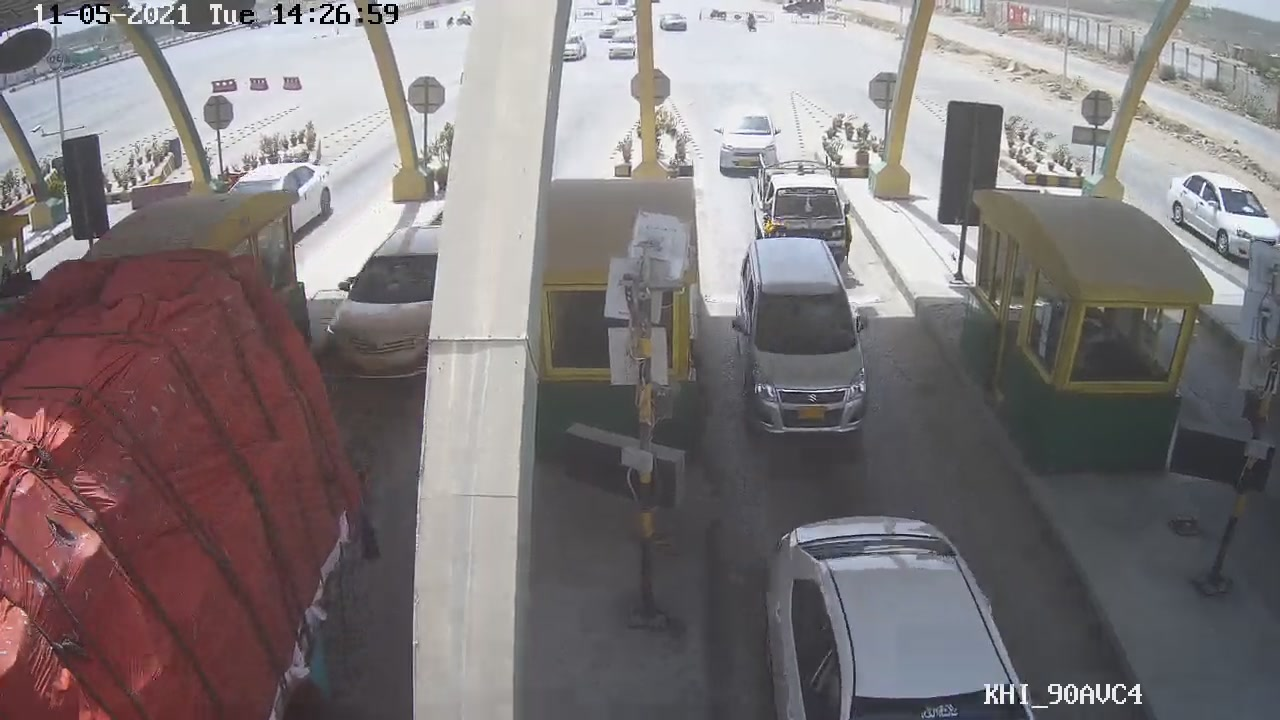F1: (725, 231, 881, 444)
